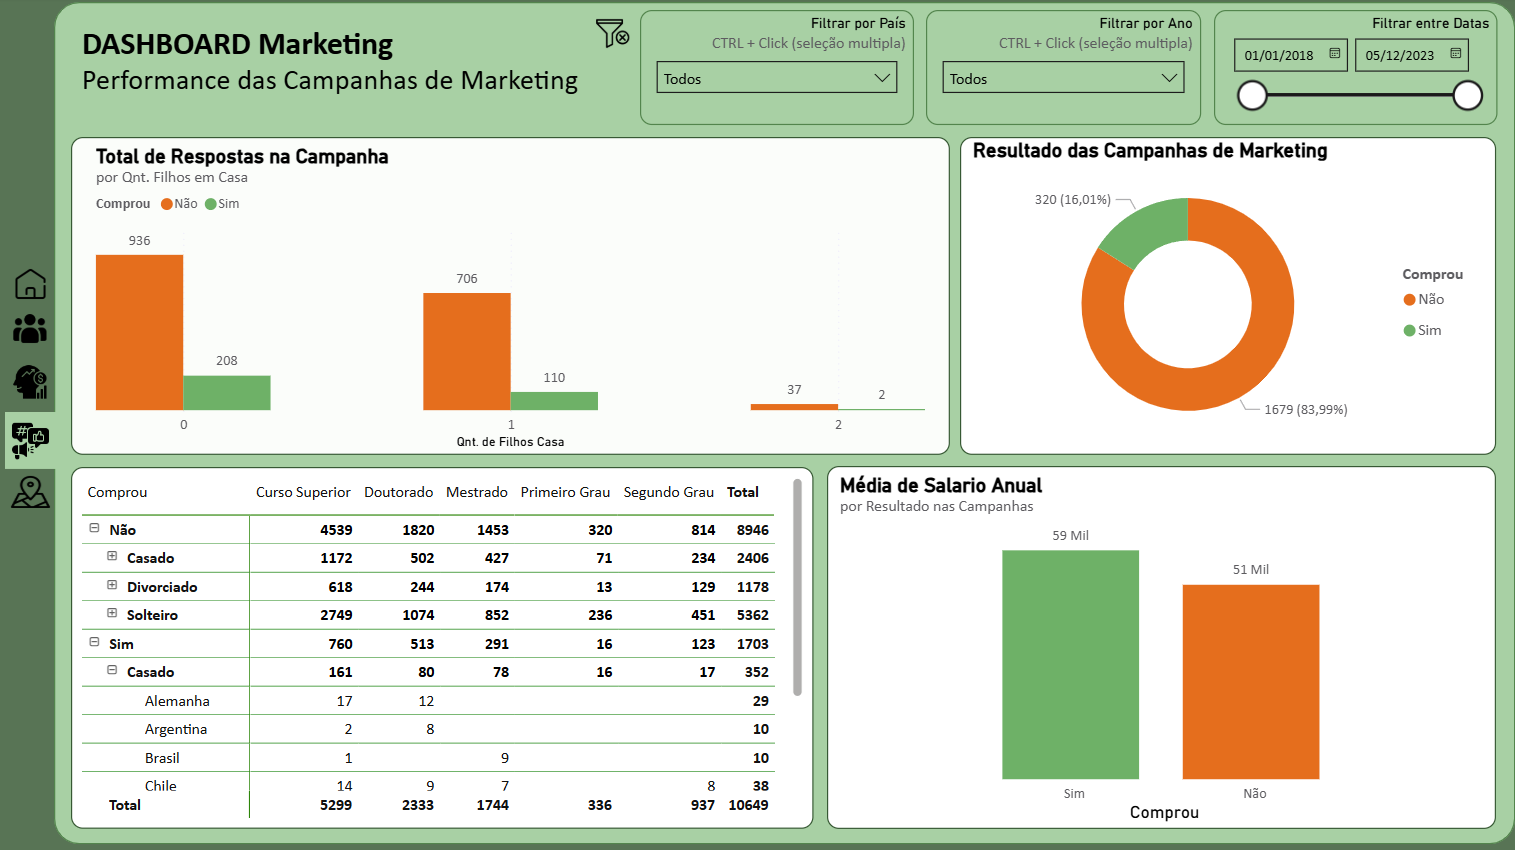

The page's visual inventory and layout, read from the dashboard file:
{"tool":"powerbi","page":{"name":"Visão Campanhas","canvas":[1280,720],"ordinal":3},"visuals":[{"type":"group","id":"g1","title":"Grupo 1","box":[48.2,4.5,1231.8,710],"z":0},{"type":"shape","box":[48.2,4.5,1231.8,710],"z":0,"group":"g1"},{"type":"textbox","box":[67.1,17.6,470.9,73.6],"z":1000,"group":"g1"},{"type":"donutChart","title":"Resultado das Campanhas de Marketing","fields":{"Category":["Dados_Marketing.Comprou"],"Y":["CountNonNull(Dados_Marketing.ID)"]},"box":[811.9,118.3,452.2,268.3],"z":1000},{"type":"slicer","title":"Filtrar por Ano","fields":{"Values":["Dados_Marketing.Data Cadastro.Variation.Hierarquia de datas.Ano"]},"box":[783.7,10.9,231.8,97.3],"z":2000,"group":"g1"},{"type":"columnChart","title":"Média de Salario Anual","fields":{"Category":["Dados_Marketing.Comprou"],"Y":["Avg(Dados_Marketing.Salario Anual)"]},"box":[699.6,395.5,564.5,306.1],"z":2000},{"type":"slicer","title":"Filtrar por País","fields":{"Values":["Dados_Marketing.Pais"]},"box":[541.8,10.9,230.9,97.3],"z":3000,"group":"g1"},{"type":"pivotTable","fields":{"Rows":["Dados_Marketing.Comprou","Dados_Marketing.Estado Civil","Dados_Marketing.Pais"],"Values":["Sum(Dados_Marketing.Numero Visitas WebSite Mes)"],"Columns":["Dados_Marketing.Escolaridade"]},"box":[62.6,396.5,626.1,305.1],"z":3000},{"type":"image","box":[7,398.9,42.7,37.3],"z":3000,"group":"g3"},{"type":"slicer","title":"Filtrar entre Datas","fields":{"Values":["Dados_Marketing.Data Cadastro"]},"box":[1026.4,10.9,239.1,97.3],"z":4000,"group":"g1"},{"type":"clusteredColumnChart","title":"Total de Respostas na Campanha","fields":{"Series":["Dados_Marketing.Comprou"],"Category":["Dados_Marketing.Filhos em Casa"],"Y":["CountNonNull(Dados_Marketing.Comprou)"]},"box":[62.6,118.3,741.4,268.3],"z":4000},{"type":"image","box":[7,260.7,42.7,38.2],"z":4000,"group":"g3"},{"type":"group","id":"g2","title":"Grupo 5","box":[7,223.6,42.7,212.7],"z":5000},{"type":"group","id":"g3","title":"Grupo 2","box":[7,260.7,42.7,175.5],"z":5000,"group":"g2"},{"type":"image","box":[7,303.4,42.7,41.8],"z":5000,"group":"g3"},{"type":"image","box":[498.9,11.9,39.8,37.8],"z":6000},{"type":"image","box":[7,223.6,42.6,37.2],"z":6000,"group":"g2"},{"type":"image","box":[7,349.8,42.7,48.2],"z":6000,"group":"g3"}]}

Visuals, with their boxes in screenshot pixels (x1, y1, x2, y2), scaled from the page's 1280x720 canvas onto the 1515x850 screenshot:
"Grupo 1" group: [57,5,1514,844]
shape: [57,5,1514,844]
textbox: [79,21,637,108]
"Resultado das Campanhas de Marketing" donutChart: [961,140,1496,456]
"Filtrar por Ano" slicer: [928,13,1202,128]
"Média de Salario Anual" columnChart: [828,467,1496,828]
"Filtrar por País" slicer: [641,13,915,128]
pivotTable - Dados_Marketing.Comprou x Dados_Marketing.Estado Civil: [74,468,815,828]
image: [8,471,59,515]
"Filtrar entre Datas" slicer: [1215,13,1498,128]
"Total de Respostas na Campanha" clusteredColumnChart: [74,140,952,456]
image: [8,308,59,353]
"Grupo 5" group: [8,264,59,515]
"Grupo 2" group: [8,308,59,515]
image: [8,358,59,408]
image: [590,14,638,59]
image: [8,264,59,308]
image: [8,413,59,470]
